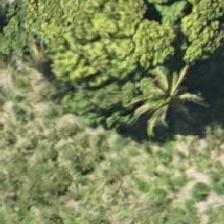coconut_tree: (122, 43, 212, 133)
